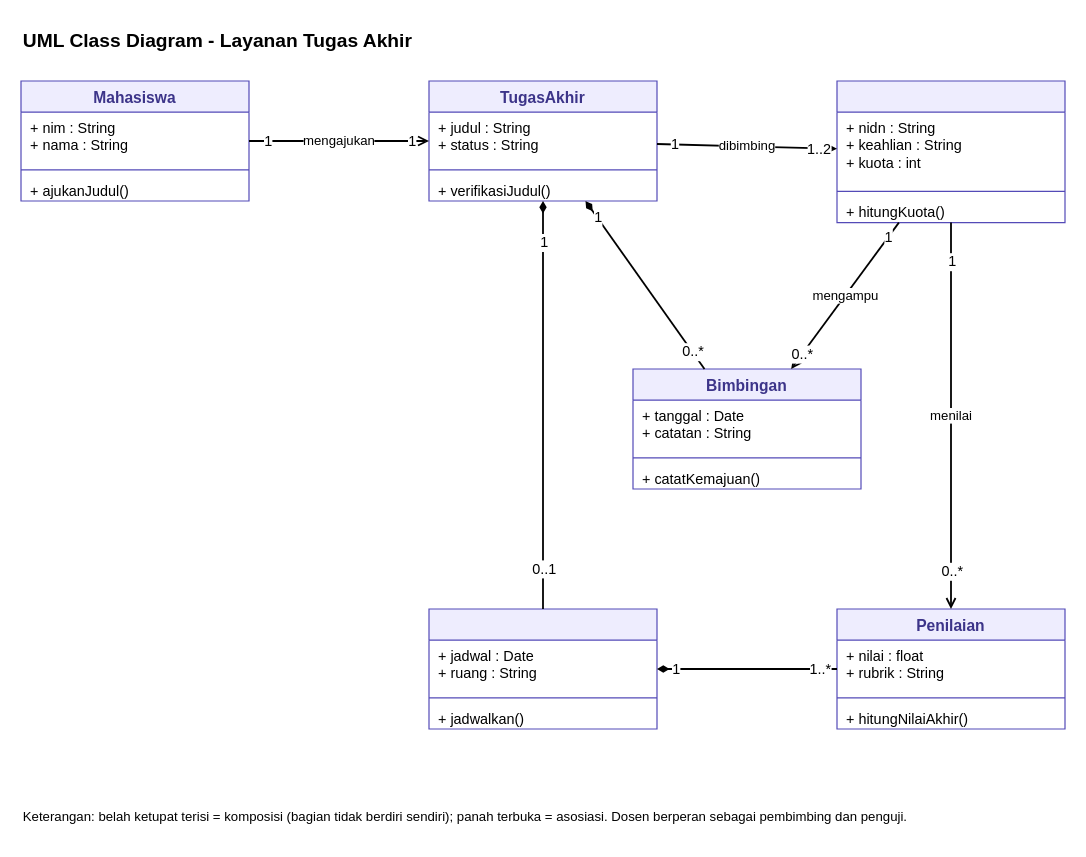
The diagram is 1086 pixels wide and 857 high, and some of its shapes have lost their labels. The box of each missing label's shape, as (x1, y1, x2, y2) in pixels:
Dosen: (836, 80, 1065, 223)
Sidang: (428, 608, 657, 729)
